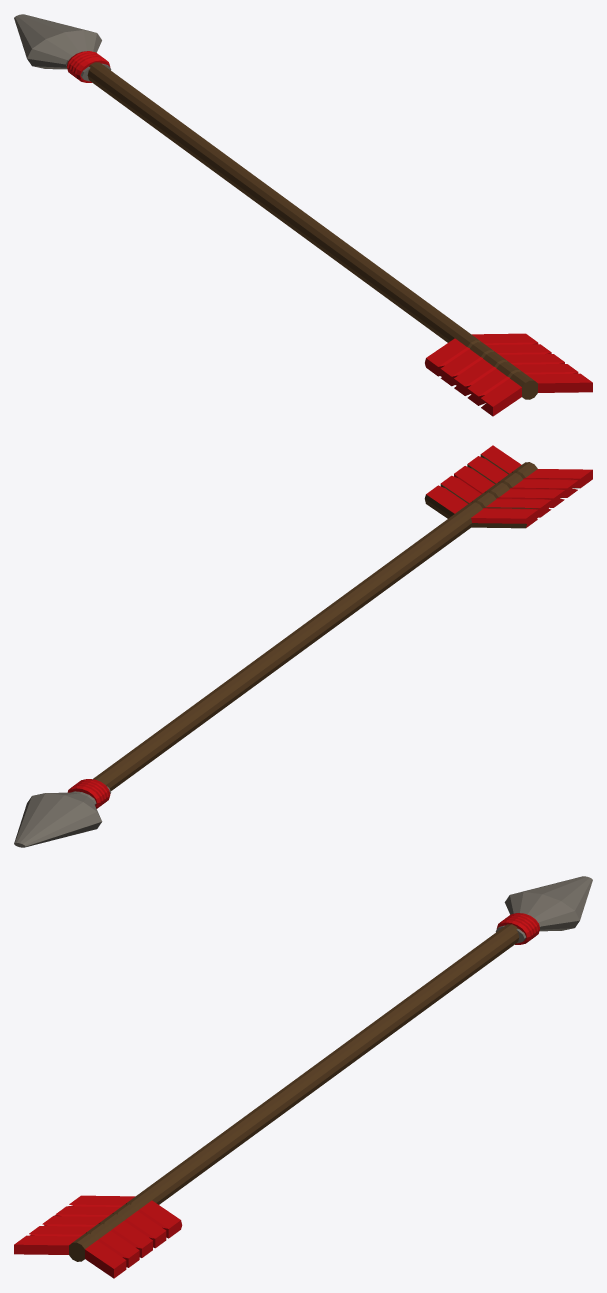
Rendered from bs-arrow.fbx.
3 views of the same model, one above another, from view 1: azimuth 30°, elevation 25°; view 2: azimuth 150°, elevation 25°; view 3: azimuth 330°, elevation 25° (orthographic).
Visible parts, largest first — view 1: Cylinder.032; view 2: Cylinder.032; view 3: Cylinder.032.
Part boxes in pixels (left/top/right/bottom): Cylinder.032: left=14, top=14, right=592, bottom=416; Cylinder.032: left=14, top=445, right=592, bottom=847; Cylinder.032: left=14, top=876, right=592, bottom=1278.
Size of the model in its own units: 7.01 by 2.26 by 61.95.
